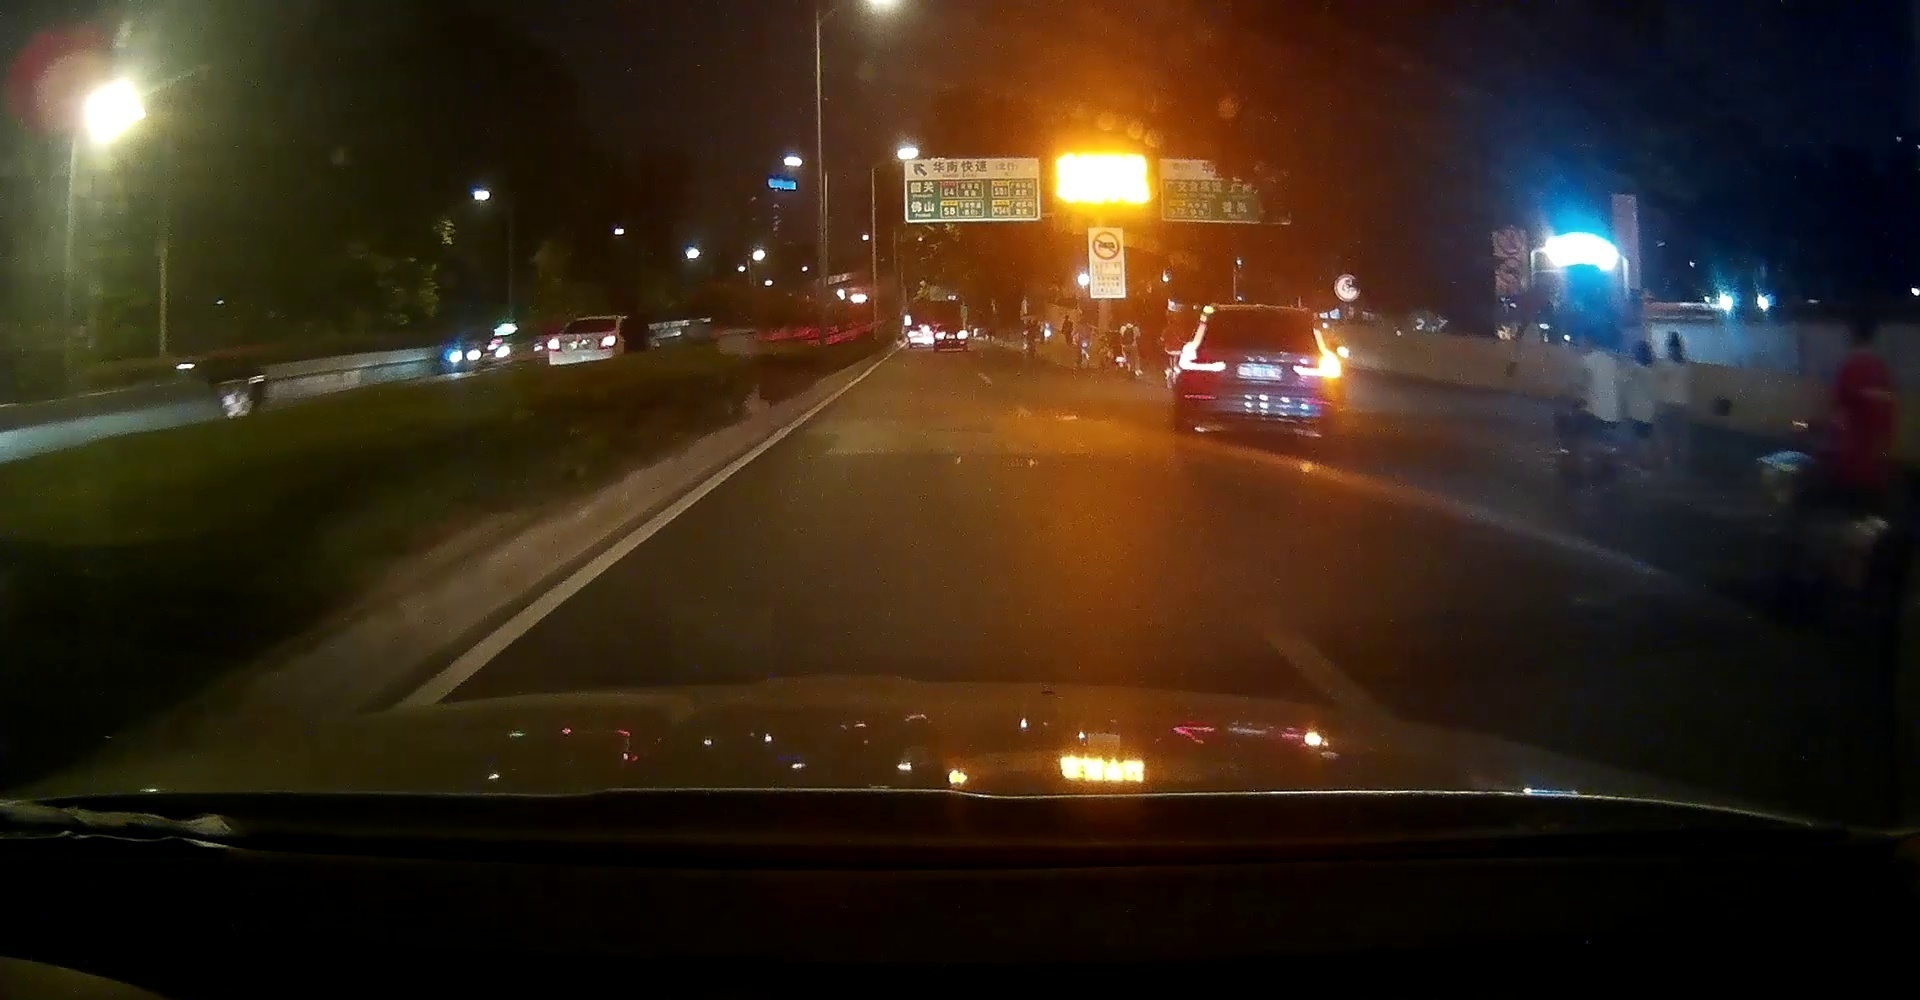L_light: (1178, 322, 1225, 371), (549, 338, 560, 352)
R_light: (1293, 327, 1341, 379), (597, 335, 618, 350)
T_light: (1250, 310, 1277, 313), (579, 332, 590, 334)
night-no: (547, 316, 620, 365)
night-right: (1171, 303, 1342, 442)
